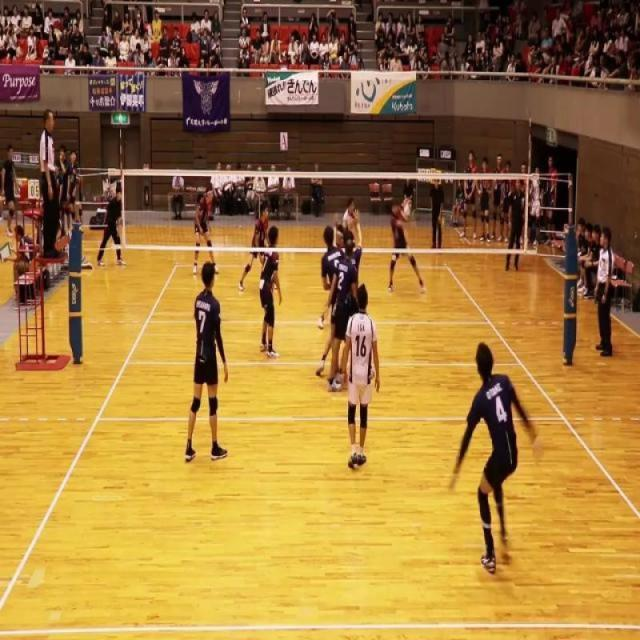volleyball: (403, 204, 411, 217)
